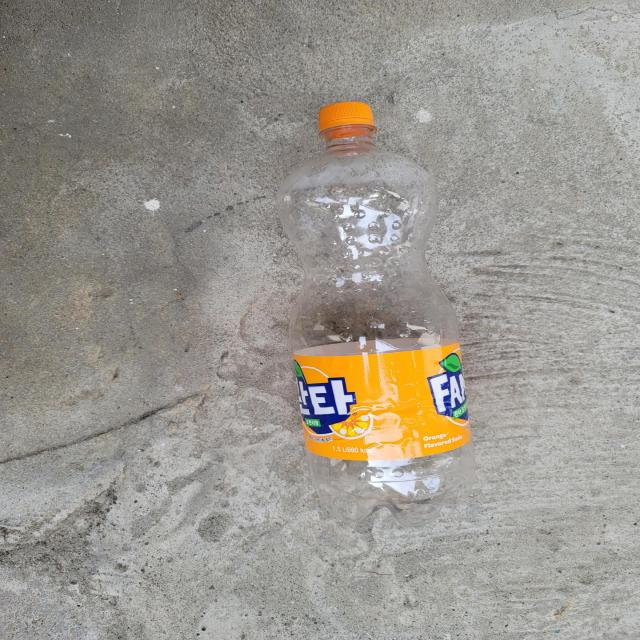plastic: (277, 101, 475, 527)
